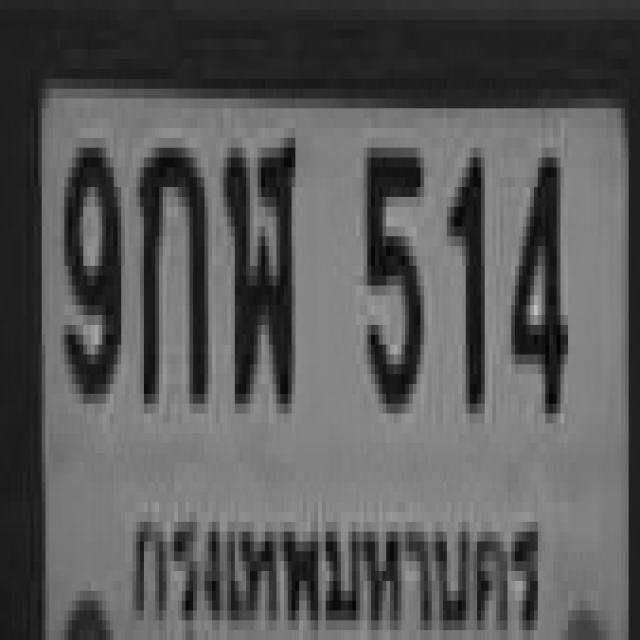1: (443, 142, 481, 408)
10GorGai: (136, 138, 204, 394)
4: (508, 142, 564, 408)
5: (360, 138, 420, 404)
51LorChula: (222, 133, 294, 399)
9: (61, 138, 118, 394)
Bangkok: (123, 484, 545, 640)
